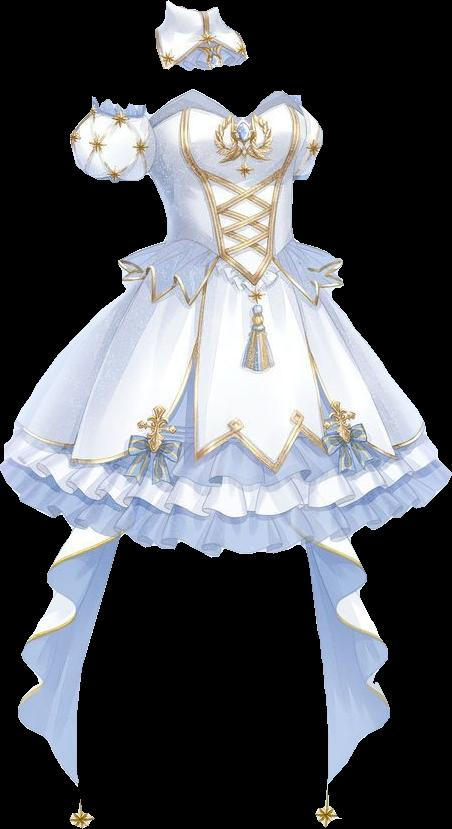Bodice: (149, 89, 304, 285)
Hemline: (16, 260, 223, 465), (0, 462, 451, 556), (2, 447, 439, 519), (193, 256, 329, 475), (283, 273, 429, 456), (123, 259, 221, 306), (275, 258, 344, 306)
Neckline: (153, 85, 301, 123)
Skirt: (0, 241, 451, 567)
Sleeve: (70, 96, 154, 182)
Sleeveline: (92, 98, 162, 121)
Waistline: (165, 232, 303, 292)
